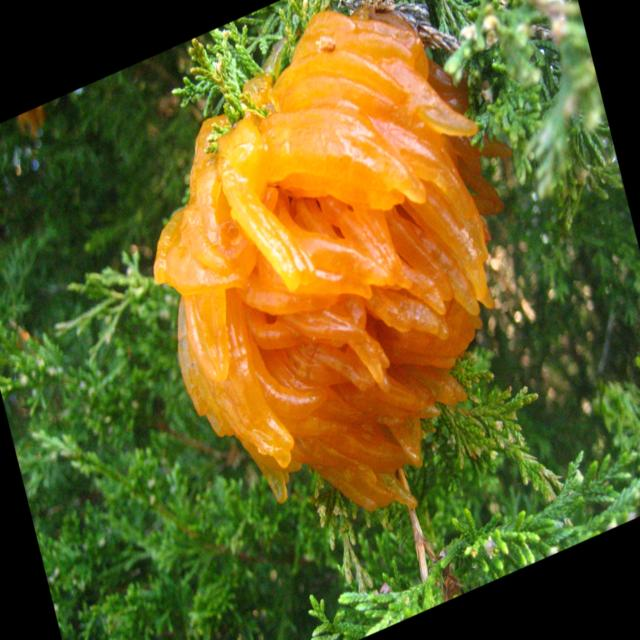Gymnosporangium_Rusts: (152, 8, 511, 516)
